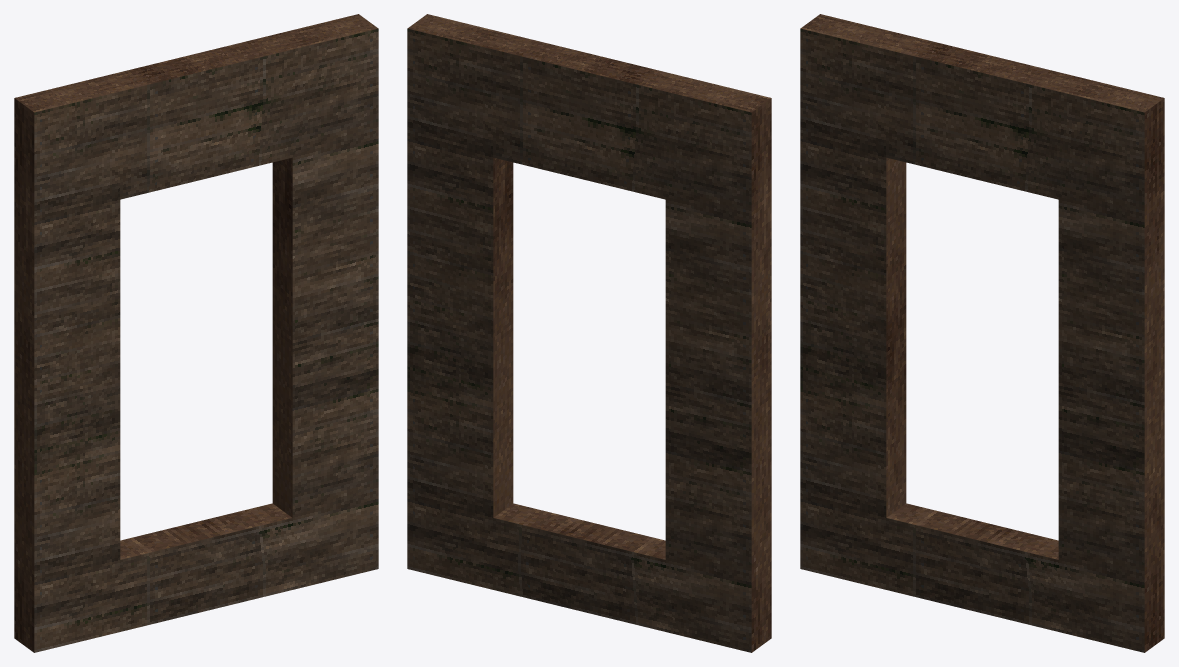
File: window_single_frame.glb
3 views of the same model, side by side, from view 1: azimuth 30°, elevation 25°; view 2: azimuth 150°, elevation 25°; view 3: azimuth 330°, elevation 25° (orthographic).
Parts seen in each view (by area): view 1: window_single_frame2; view 2: window_single_frame2; view 3: window_single_frame2.
Part boxes in pixels (x1,y1,x2,y2): window_single_frame2: [14, 14, 378, 652]; window_single_frame2: [407, 14, 771, 652]; window_single_frame2: [800, 14, 1164, 652].
Bounding box in the file's own units: 2 × 3 × 0.2.
Materials: 1 (1 with a texture image).
